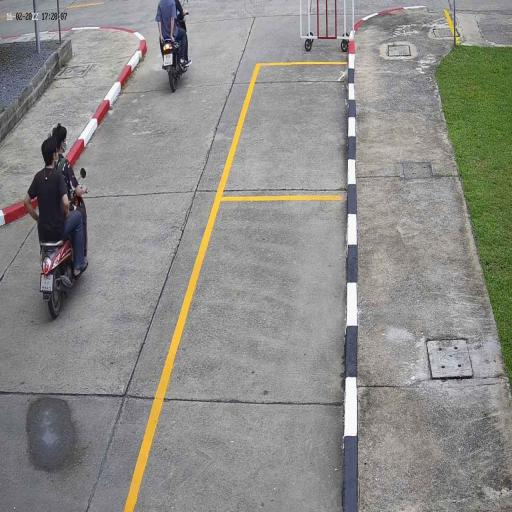motorcycle: (38, 189, 89, 322), (160, 28, 190, 96)
